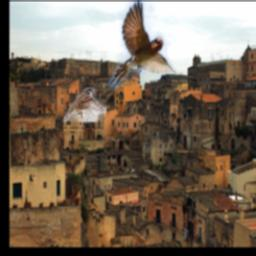Sparrow: (65, 88, 108, 122)
Swallow: (109, 1, 188, 90)
